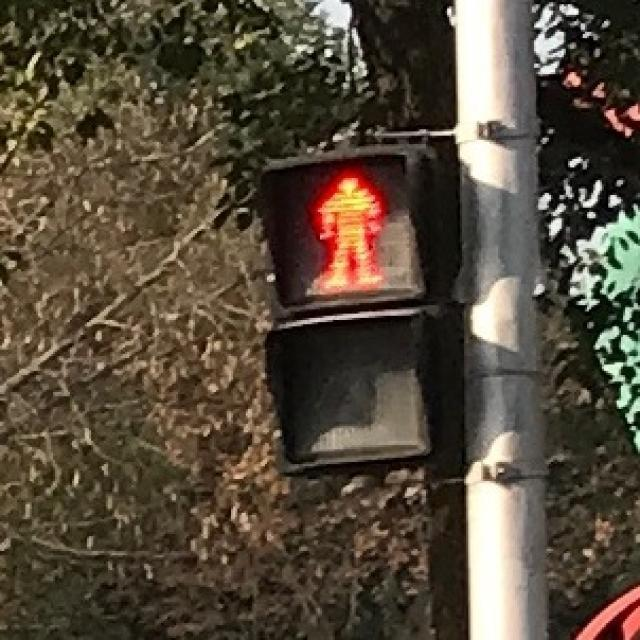red-crossing: (278, 150, 413, 299)
